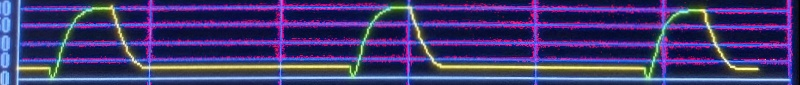leakage: (5, 1, 762, 85)
